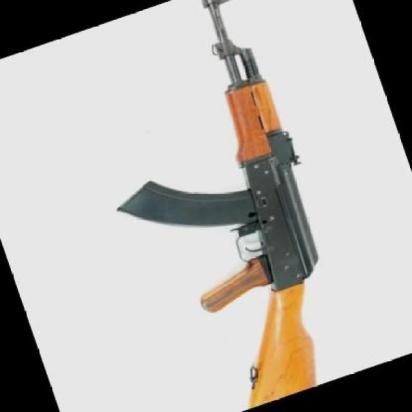Gun: (60, 0, 400, 412)
